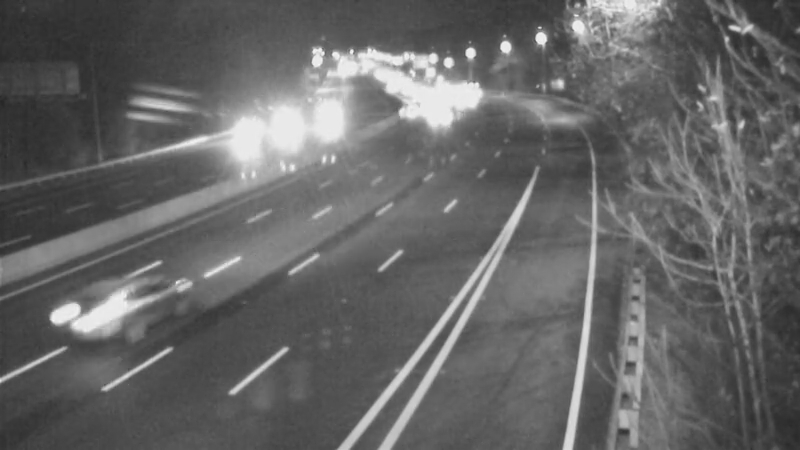vehicle: (30, 259, 140, 369), (384, 85, 434, 135), (414, 92, 464, 142), (220, 114, 270, 164), (253, 102, 303, 152), (305, 93, 355, 143)
